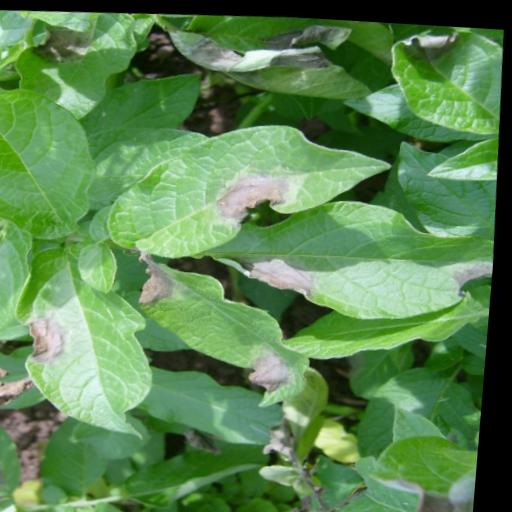Late Blight: (95, 108, 408, 267), (208, 182, 501, 325), (117, 237, 338, 416), (22, 243, 172, 444)
